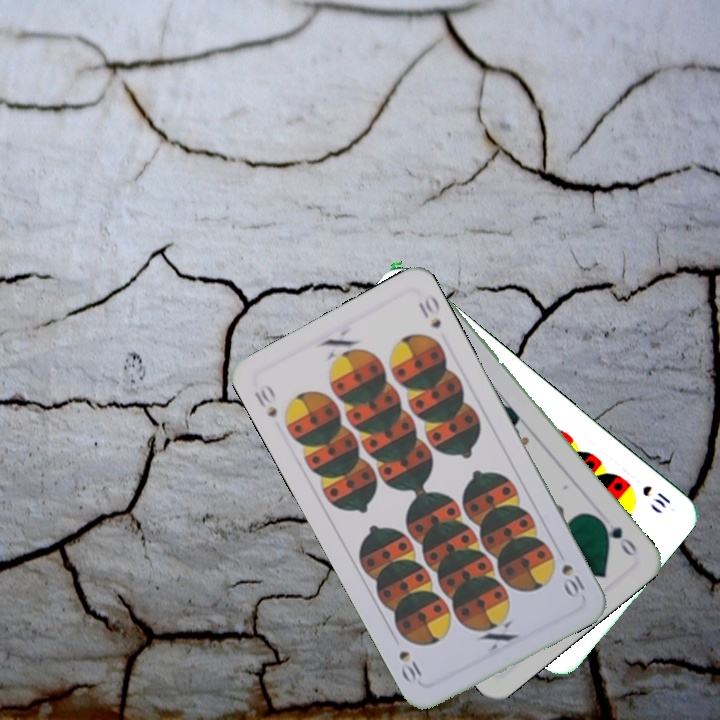GO: (593, 513, 640, 560)
S10: (557, 559, 588, 600), (250, 380, 280, 420), (638, 481, 674, 511)
